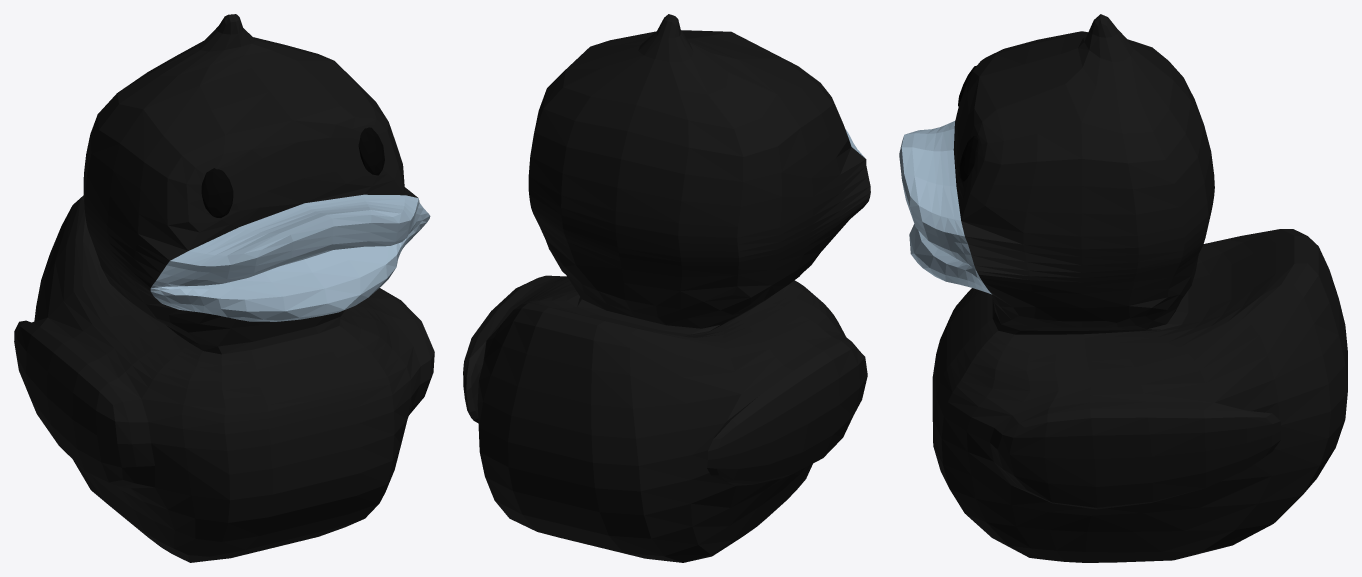
Rendered from Black_duckie.FBX.
3 views of the same model, side by side, from view 1: azimuth 30°, elevation 25°; view 2: azimuth 150°, elevation 25°; view 3: azimuth 270°, elevation 25° (orthographic). The views are drawn at different scales.
Visible parts, largest first — view 1: duckie, duckie_mouth, eye_left, eye_right; view 2: duckie; view 3: duckie, duckie_mouth, eye_right.
Boxes of the visible parts, box(x1,y1,x2,y2) form: duckie: box(14, 14, 434, 562); duckie_mouth: box(150, 194, 430, 321); eye_left: box(201, 168, 233, 217); eye_right: box(358, 127, 384, 175); duckie: box(463, 14, 870, 562); duckie: box(932, 14, 1347, 562); duckie_mouth: box(899, 121, 991, 294); eye_right: box(959, 136, 978, 182).
Bounding box in the file's own units: 3.98 × 5.9 × 4.65.
